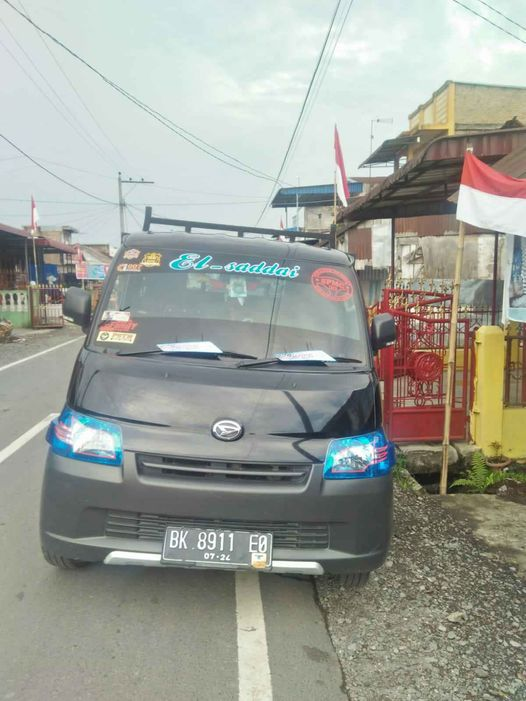plate: (164, 520, 273, 575)
